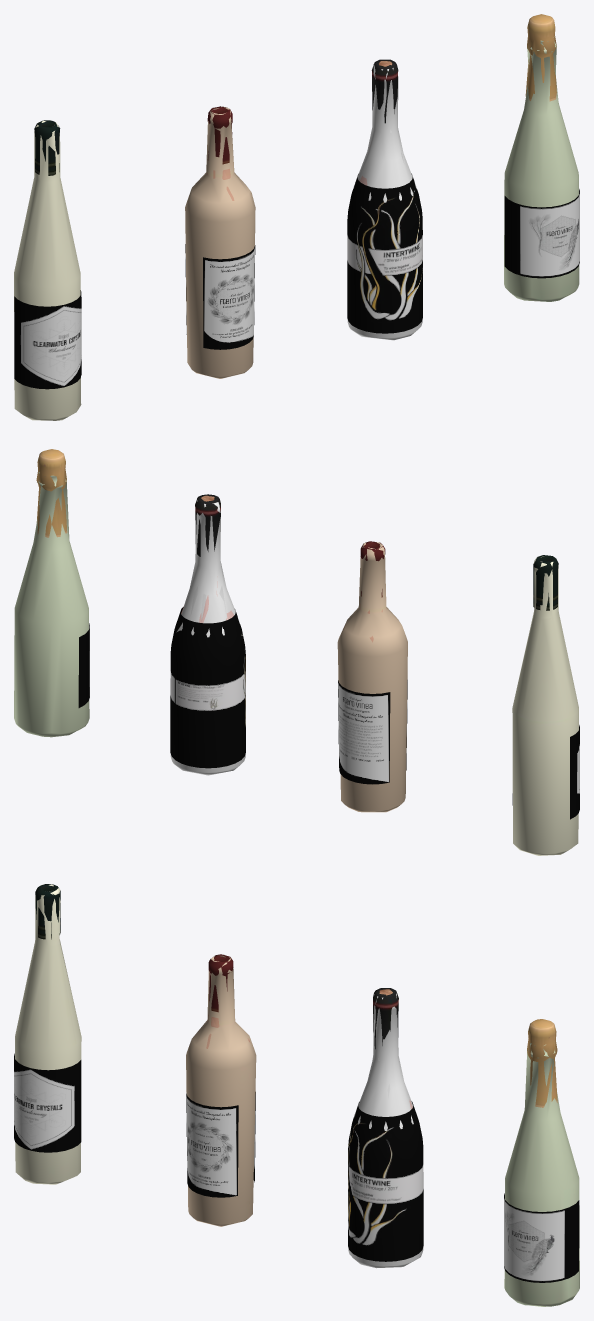
File: wine-bottles.glb
3 renders of one model, top to bottom at view 1: azimuth 30°, elevation 25°; view 2: azimuth 150°, elevation 25°; view 3: azimuth 330°, elevation 25°, orthographic.
Visible parts, largest first — view 1: wine_bottles_01_bordeaux, wine_bottles_01_burgundy, wine_bottles_01_alsace, wine_bottles_01_champagne; view 2: wine_bottles_01_bordeaux, wine_bottles_01_burgundy, wine_bottles_01_alsace, wine_bottles_01_champagne; view 3: wine_bottles_01_bordeaux, wine_bottles_01_burgundy, wine_bottles_01_alsace, wine_bottles_01_champagne.
Boxes of the visible parts, bbox=[...] form: wine_bottles_01_bordeaux: bbox=[14, 14, 579, 420]; wine_bottles_01_burgundy: bbox=[347, 173, 422, 333]; wine_bottles_01_alsace: bbox=[14, 290, 81, 389]; wine_bottles_01_champagne: bbox=[504, 189, 579, 278]; wine_bottles_01_bordeaux: bbox=[14, 449, 578, 855]; wine_bottles_01_burgundy: bbox=[170, 597, 245, 768]; wine_bottles_01_alsace: bbox=[512, 725, 579, 819]; wine_bottles_01_champagne: bbox=[78, 623, 89, 707]; wine_bottles_01_bordeaux: bbox=[15, 884, 579, 1306]; wine_bottles_01_burgundy: bbox=[348, 1101, 423, 1261]; wine_bottles_01_alsace: bbox=[14, 1053, 81, 1152]; wine_bottles_01_champagne: bbox=[504, 1193, 579, 1282].
Bounding box in the file's own units: 0.6763 × 0.3313 × 0.0801.
Materials: 9 (6 with a texture image).
